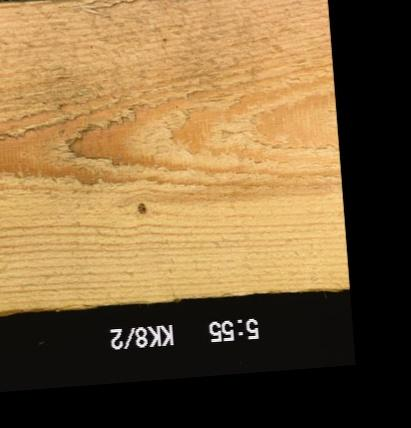dry_knot: (137, 206, 146, 216)
